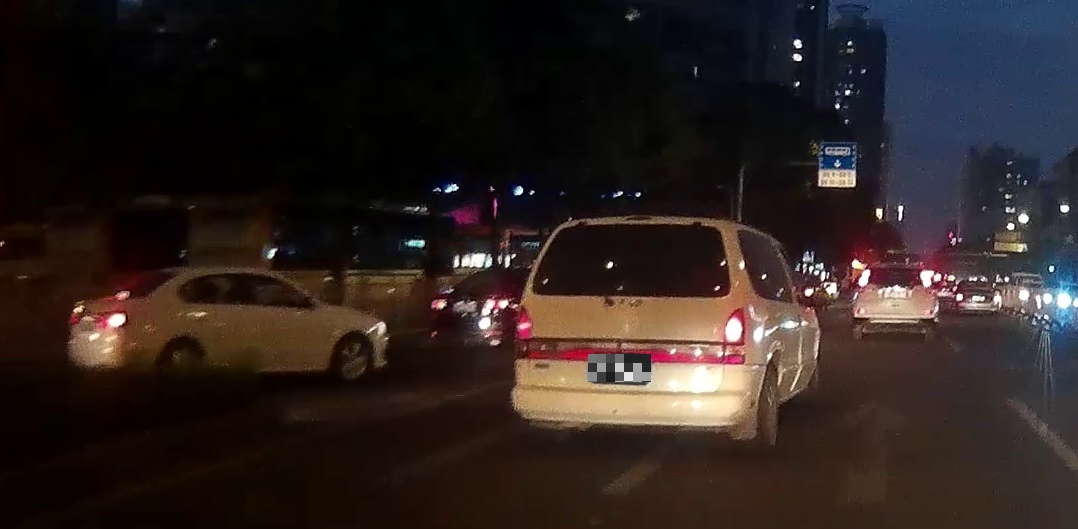L_light: (514, 306, 533, 360), (858, 268, 871, 287)
R_light: (722, 307, 746, 365), (919, 270, 931, 287)
T_light: (621, 223, 657, 232), (891, 269, 904, 273)
night-no: (852, 263, 938, 343)
night-right: (511, 215, 762, 453)
plate_1: (588, 354, 651, 382)
